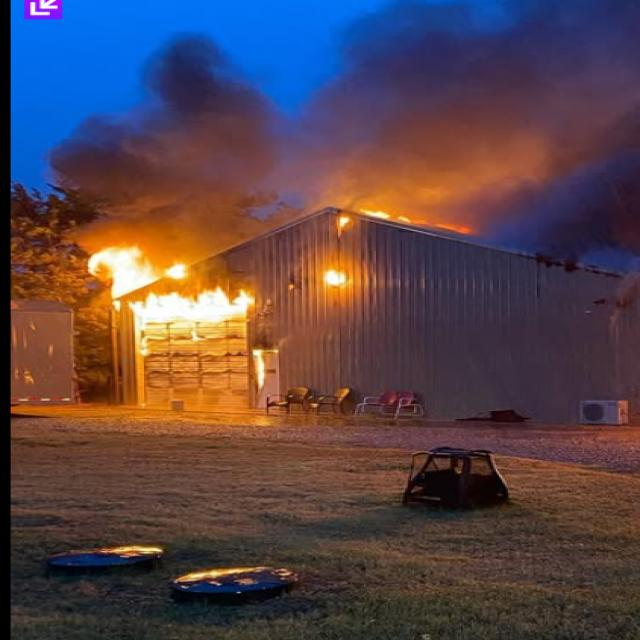fire: (128, 287, 255, 356), (87, 246, 161, 298)
